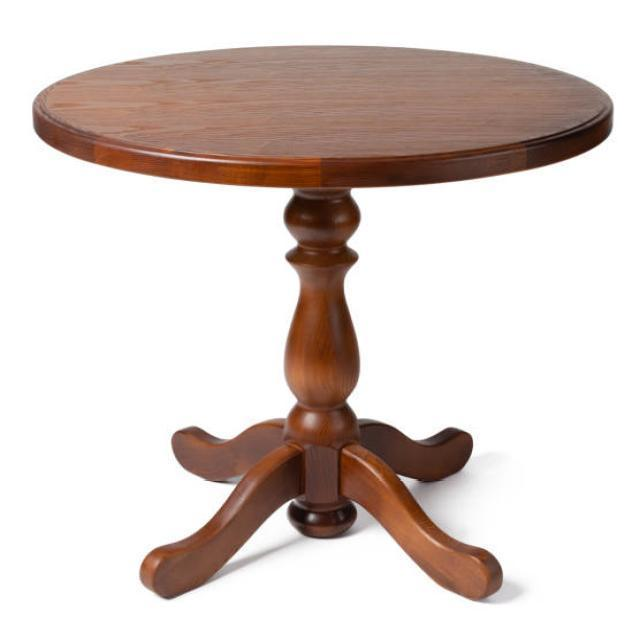table: (31, 43, 615, 602)
